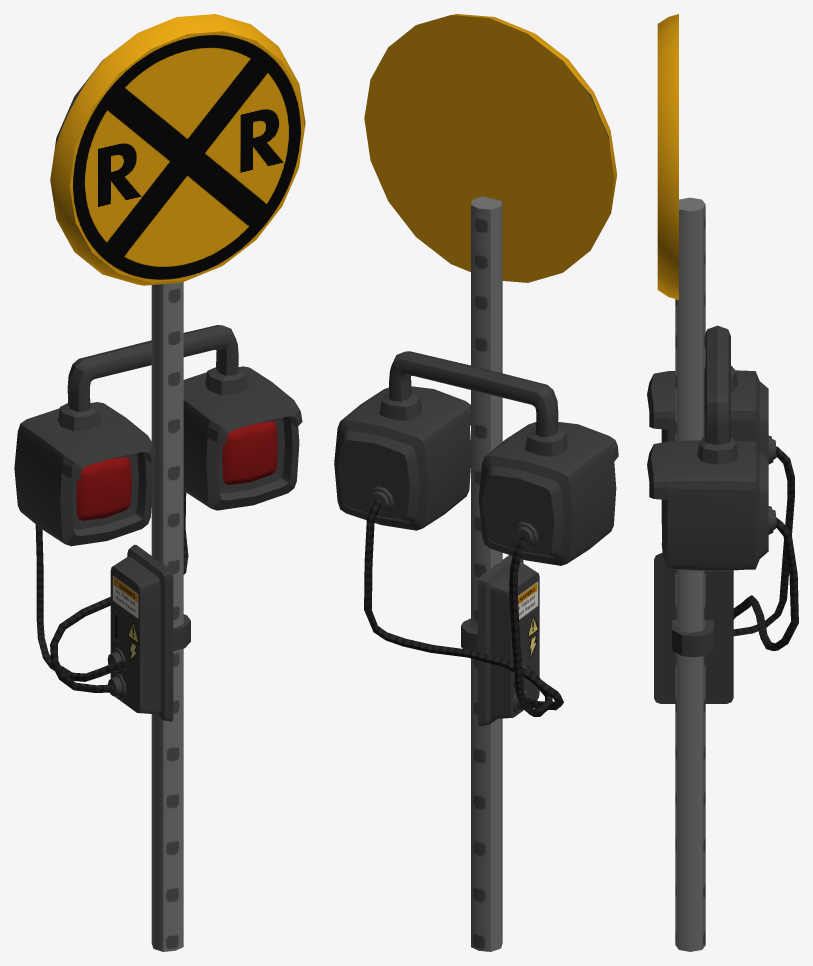
The model's file is railroad sign.glb.
3 renders of one model, left to right at view 1: azimuth 30°, elevation 25°; view 2: azimuth 150°, elevation 25°; view 3: azimuth 270°, elevation 25°, orthographic.
Parts seen in each view (by area): view 1: Sign_Railroad_LOD0; view 2: Sign_Railroad_LOD0; view 3: Sign_Railroad_LOD0.
Boxes of the visible parts, <box> form: Sign_Railroad_LOD0: <box>14,14,305,951</box>; Sign_Railroad_LOD0: <box>334,14,618,951</box>; Sign_Railroad_LOD0: <box>647,14,798,951</box>.
Size of the model in its own units: 1.12 by 3.94 by 0.5896.
1 material, 1 textured.
